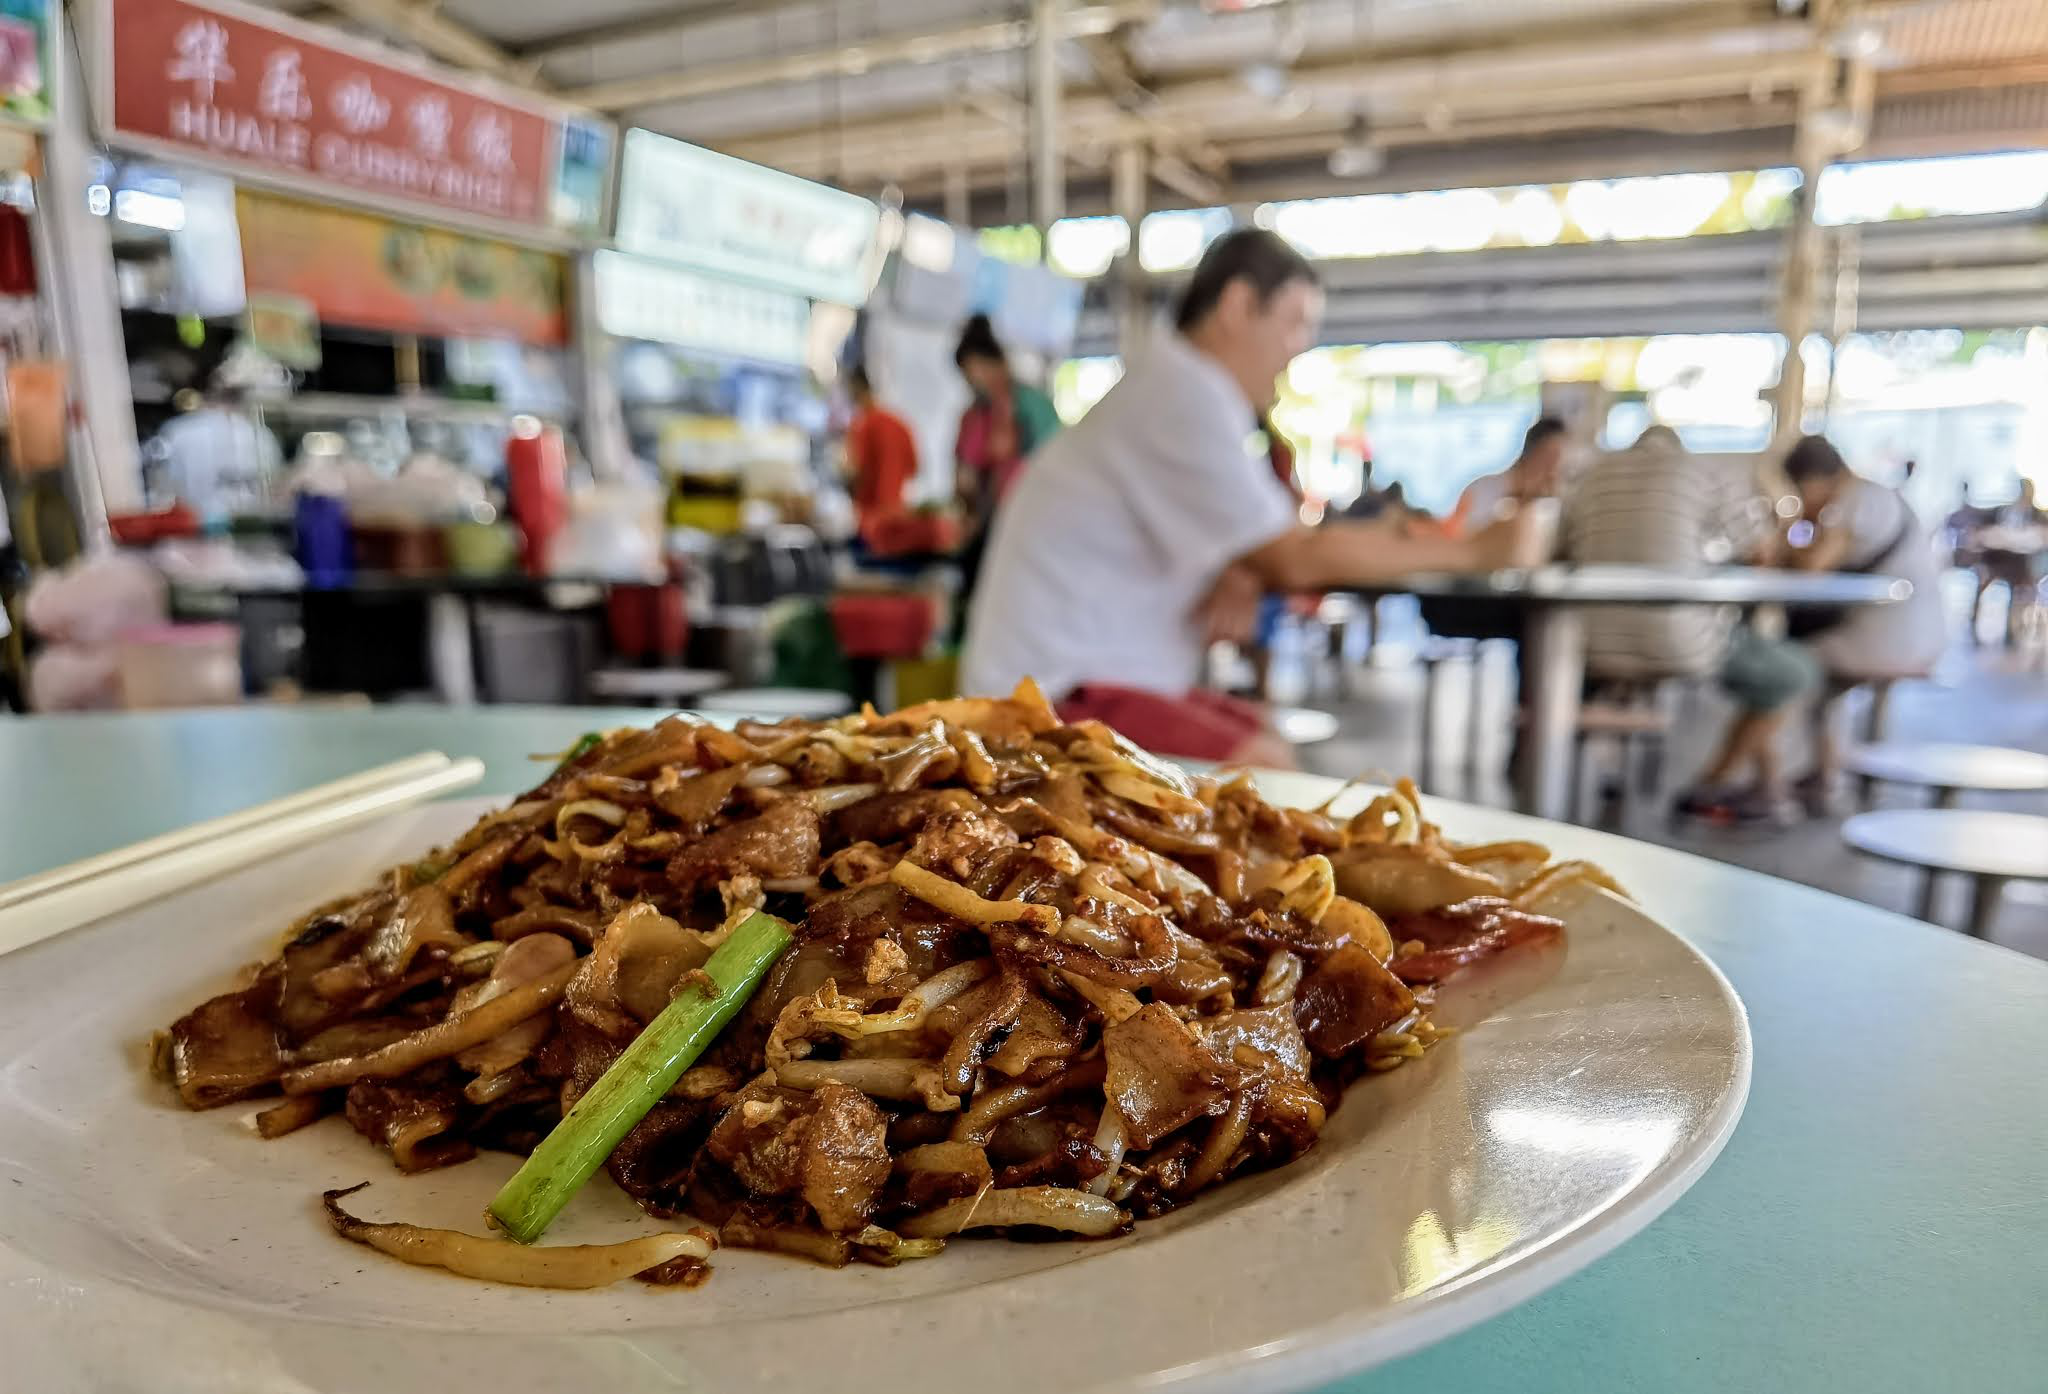Char Kway Teow: (187, 723, 1639, 1291)
